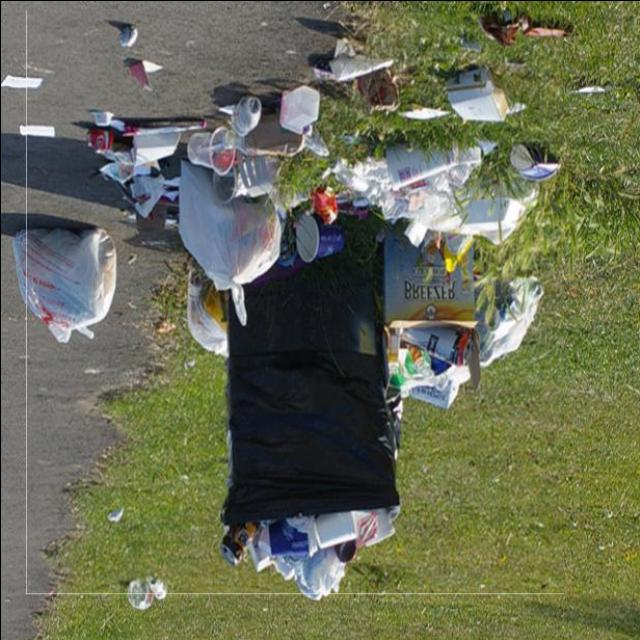plastik: (180, 161, 281, 321), (11, 228, 115, 342), (475, 275, 542, 365), (186, 126, 234, 175)
